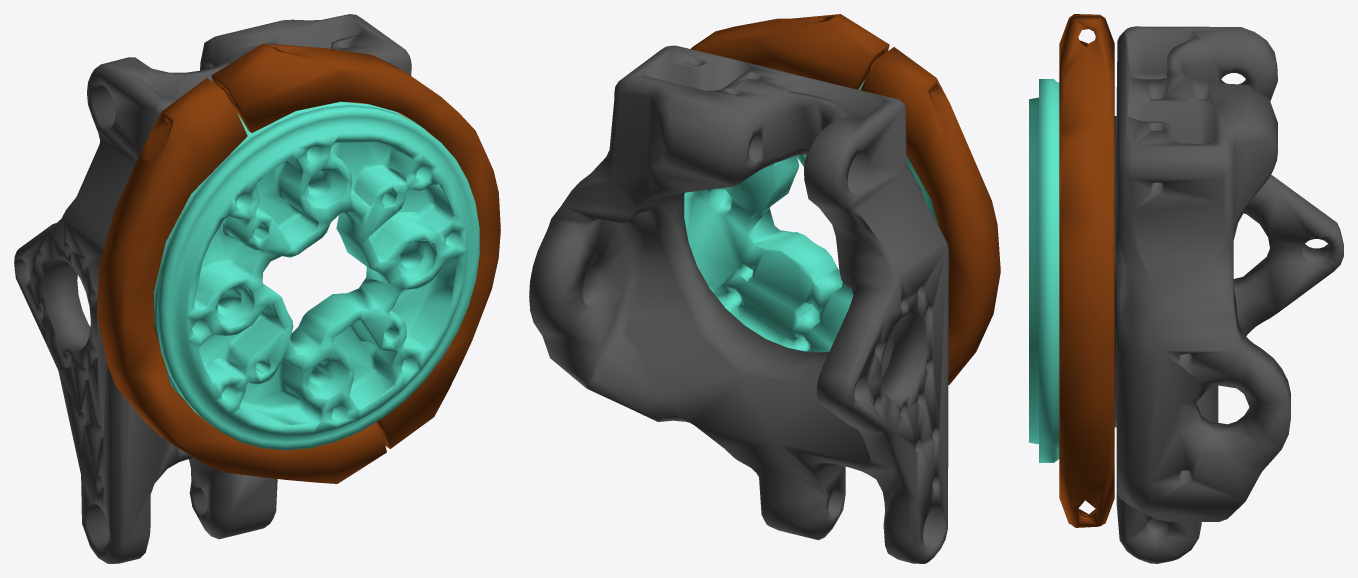
The model's file is right_hip_yaw.obj.
3 renders of one model, left to right at view 1: azimuth 30°, elevation 25°; view 2: azimuth 150°, elevation 25°; view 3: azimuth 270°, elevation 25°, orthographic. The views are drawn at different scales.
Bounding box in the file's own units: 0.1251 × 0.1595 × 0.0852.
